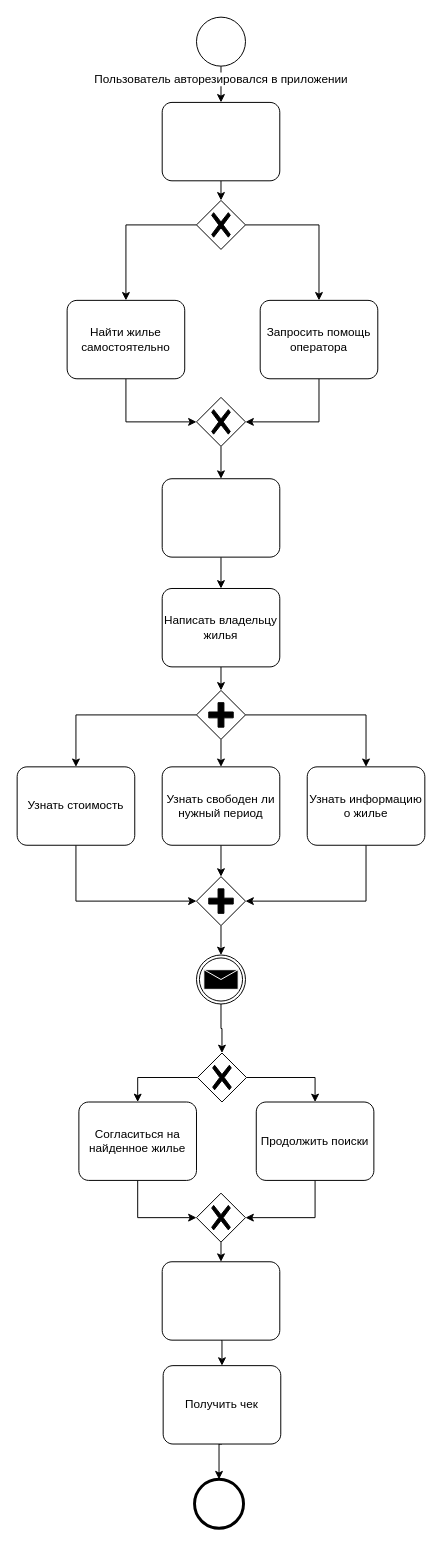
The diagram is 442 pixels wide and 1566 high, and some of its shapes have lost their labels. The centre of each missing label's shape, as x and y in pixels:
Добавить нового ползователя в базу данных: the point at 220,141
Закончить поиски: the point at 219,1503
Найти подходящее жилье: the point at 220,517
Получить ответ от владельца жилья: the point at 220,979
Снять жилье: the point at 220,1300
